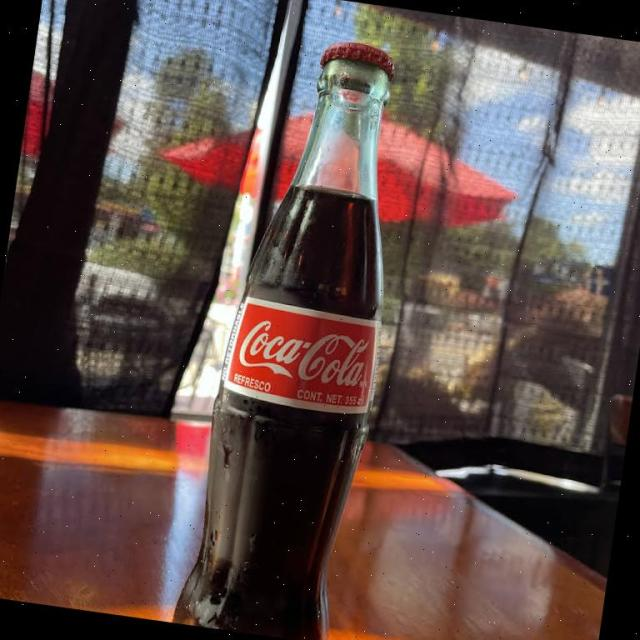coca-cola: (173, 21, 421, 640)
